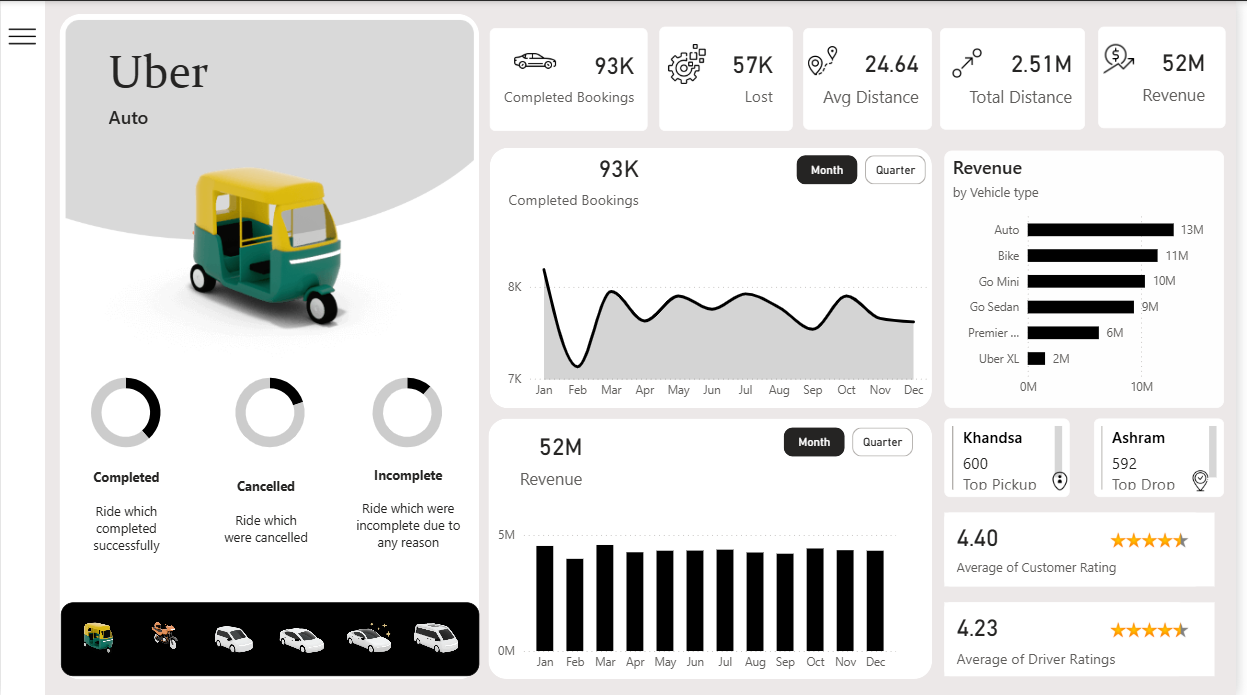

Layout of this report page (visuals, bound fields, positions):
{"tool":"powerbi","page":{"name":"Overview","canvas":[1280,720],"ordinal":1},"visuals":[{"type":"shape","box":[0,0,45.8,720.7],"z":0},{"type":"image","box":[0,13.3,45.8,48.7],"z":1000},{"type":"shape","box":[60,13.3,435,690],"z":2000},{"type":"image","box":[61.7,0,433.3,436.7],"z":3000},{"type":"textbox","box":[106.7,38.3,140,85],"z":4000},{"type":"cardVisual","fields":{"Data":["_Measures.Lost_Bookings"]},"box":[681.7,26.7,138.3,108.3],"z":5000},{"type":"cardVisual","fields":{"Data":["_Measures.Completed_Bookings"]},"box":[506.7,28.3,163.3,106.7],"z":6000},{"type":"cardVisual","fields":{"Data":["_Measures.Booking_Value"]},"box":[1136.7,26.7,131.7,105],"z":7000},{"type":"cardVisual","fields":{"Data":["_Measures.Distance"]},"box":[973.3,28.3,150,105],"z":8000},{"type":"cardVisual","fields":{"Data":["_Measures.Average_Distance"]},"box":[831.7,28.3,133.3,105],"z":9000},{"type":"advancedSlicerVisual","fields":{"Values":["IMG.Vehicle Type"]},"box":[61.7,623.3,433.3,76.7],"z":10000},{"type":"cardVisual","fields":{"Data":["Min(Uber.Ve_type)"]},"box":[94.5,81.2,217.1,69.4],"z":11000},{"type":"cardVisual","fields":{"Data":["Min(IMG.Img)"]},"box":[82.7,44.3,389.9,431.2],"z":12000},{"type":"shape","box":[506.7,151.7,458.3,270],"z":13000},{"type":"areaChart","fields":{"Category":["Calendar.Month"],"Y":["_Measures.Completed_Bookings"]},"box":[520,235,445,186.7],"z":14000},{"type":"shape","box":[505,433.3,460,270],"z":15000},{"type":"lineStackedColumnComboChart","fields":{"Category":["Calendar.Month"],"Y":["_Measures.Booking_Value"]},"box":[510,515,423.3,188.3],"z":16000},{"type":"advancedSlicerVisual","fields":{"Values":["Date Axis.Date Axis"]},"box":[820,155,145,40],"z":17000},{"type":"advancedSlicerVisual","fields":{"Values":["Date Axis.Date Axis"]},"box":[806.7,436.7,145,40],"z":18000},{"type":"cardVisual","fields":{"Data":["_Measures.Booking_Value"]},"box":[510,423.3,110,106.7],"z":19000},{"type":"cardVisual","fields":{"Data":["_Measures.Completed_Bookings"]},"box":[505,135,173.3,106.7],"z":20000},{"type":"clusteredBarChart","title":"Revenue","fields":{"Y":["_Measures.Booking_Value"],"Category":["Uber.Ve_type"]},"box":[978.3,155,290,266.7],"z":21000},{"type":"multiRowCard","fields":{"Values":["Uber.Pickup Location","_Measures.Completed_Bookings"]},"box":[978.3,433.3,130,81.7],"z":22000},{"type":"multiRowCard","fields":{"Values":["Uber.Drop Location","_Measures.Completed_Bookings"]},"box":[1133.3,433.3,135,81.7],"z":23000},{"type":"image","box":[1070,480,53.3,35],"z":24000},{"type":"image","box":[1226.7,480,31.7,35],"z":25000},{"type":"image","box":[978.3,45,46.7,40],"z":26000},{"type":"image","box":[831.7,35,40,53.3],"z":27000},{"type":"image","box":[1136.7,38.3,43.3,41.7],"z":28000},{"type":"image","box":[685,35,51.7,60],"z":29000},{"type":"image","box":[520,35,66.7,53.3],"z":30000},{"type":"shape","box":[978.3,530,280,76.7],"z":31000},{"type":"shape","box":[978.3,623.3,280,76.7],"z":32000},{"type":"cardVisual","fields":{"Data":["Avg(Uber.Driver Ratings)"]},"box":[978.3,623.3,248.3,76.7],"z":33000},{"type":"cardVisual","fields":{"Data":["Avg(Uber.Customer Rating)"]},"box":[978.3,530,265,76.7],"z":34000},{"type":"image","box":[1145,530,91.7,56.7],"z":35000},{"type":"image","box":[1145,623.3,91.7,56.7],"z":36000},{"type":"donutChart","fields":{"Y":["_Measures.Booking_count","_Measures.Bookings_Remove_Star_Filter"]},"box":[70,376.7,120,100],"z":37000},{"type":"donutChart","fields":{"Y":["_Measures.Booking_count","_Measures.Bookings_Remove_Star_Filter"]},"box":[360,376.7,121.7,100],"z":38000},{"type":"donutChart","fields":{"Y":["_Measures.Booking_count","_Measures.Bookings_Remove_Star_Filter"]},"box":[223.3,376.7,111.7,100],"z":39000},{"type":"textbox","box":[78.3,480,103.3,98.3],"z":40000},{"type":"textbox","box":[223.3,488.3,103.3,98.3],"z":41000},{"type":"textbox","box":[360,476.7,123.3,123.3],"z":42000}]}

Visuals, with their boxes on the page's 1280x720 design canvas (x1, y1, x2, y2). These are canvas units, not pixel positions in the 1247x695 screenshot, which may show the page scaled, cropped or inside an application window:
shape: (left=0, top=0, right=46, bottom=721)
image: (left=0, top=13, right=46, bottom=62)
shape: (left=60, top=13, right=495, bottom=703)
image: (left=62, top=0, right=495, bottom=437)
textbox: (left=107, top=38, right=247, bottom=123)
cardVisual - _Measures.Lost_Bookings: (left=682, top=27, right=820, bottom=135)
cardVisual - _Measures.Completed_Bookings: (left=507, top=28, right=670, bottom=135)
cardVisual - _Measures.Booking_Value: (left=1137, top=27, right=1268, bottom=132)
cardVisual - _Measures.Distance: (left=973, top=28, right=1123, bottom=133)
cardVisual - _Measures.Average_Distance: (left=832, top=28, right=965, bottom=133)
advancedSlicerVisual - IMG.Vehicle Type: (left=62, top=623, right=495, bottom=700)
cardVisual - Min(Uber.Ve_type): (left=94, top=81, right=312, bottom=151)
cardVisual - Min(IMG.Img): (left=83, top=44, right=473, bottom=476)
shape: (left=507, top=152, right=965, bottom=422)
areaChart - Calendar.Month x _Measures.Completed_Bookings: (left=520, top=235, right=965, bottom=422)
shape: (left=505, top=433, right=965, bottom=703)
lineStackedColumnComboChart - Calendar.Month x _Measures.Booking_Value: (left=510, top=515, right=933, bottom=703)
advancedSlicerVisual - Date Axis.Date Axis: (left=820, top=155, right=965, bottom=195)
advancedSlicerVisual - Date Axis.Date Axis: (left=807, top=437, right=952, bottom=477)
cardVisual - _Measures.Booking_Value: (left=510, top=423, right=620, bottom=530)
cardVisual - _Measures.Completed_Bookings: (left=505, top=135, right=678, bottom=242)
"Revenue" clusteredBarChart: (left=978, top=155, right=1268, bottom=422)
multiRowCard - Uber.Pickup Location x _Measures.Completed_Bookings: (left=978, top=433, right=1108, bottom=515)
multiRowCard - Uber.Drop Location x _Measures.Completed_Bookings: (left=1133, top=433, right=1268, bottom=515)
image: (left=1070, top=480, right=1123, bottom=515)
image: (left=1227, top=480, right=1258, bottom=515)
image: (left=978, top=45, right=1025, bottom=85)
image: (left=832, top=35, right=872, bottom=88)
image: (left=1137, top=38, right=1180, bottom=80)
image: (left=685, top=35, right=737, bottom=95)
image: (left=520, top=35, right=587, bottom=88)
shape: (left=978, top=530, right=1258, bottom=607)
shape: (left=978, top=623, right=1258, bottom=700)
cardVisual - Avg(Uber.Driver Ratings): (left=978, top=623, right=1227, bottom=700)
cardVisual - Avg(Uber.Customer Rating): (left=978, top=530, right=1243, bottom=607)
image: (left=1145, top=530, right=1237, bottom=587)
image: (left=1145, top=623, right=1237, bottom=680)
donutChart - _Measures.Booking_count x _Measures.Bookings_Remove_Star_Filter: (left=70, top=377, right=190, bottom=477)
donutChart - _Measures.Booking_count x _Measures.Bookings_Remove_Star_Filter: (left=360, top=377, right=482, bottom=477)
donutChart - _Measures.Booking_count x _Measures.Bookings_Remove_Star_Filter: (left=223, top=377, right=335, bottom=477)
textbox: (left=78, top=480, right=182, bottom=578)
textbox: (left=223, top=488, right=327, bottom=587)
textbox: (left=360, top=477, right=483, bottom=600)
